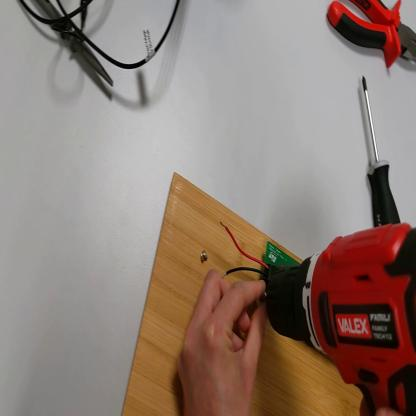electric screwdriver: (269, 223, 416, 415)
hand: (176, 269, 269, 413), (362, 395, 408, 415)
high voltage board: (223, 224, 301, 306)
oscilloscope probe tip: (36, 1, 114, 87)
pliers: (327, 3, 414, 74)
screwdriver-: (361, 77, 403, 224)
working area: (124, 174, 367, 416)
